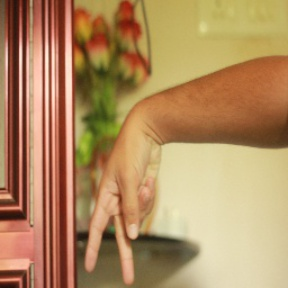Y: (80, 118, 167, 288)
